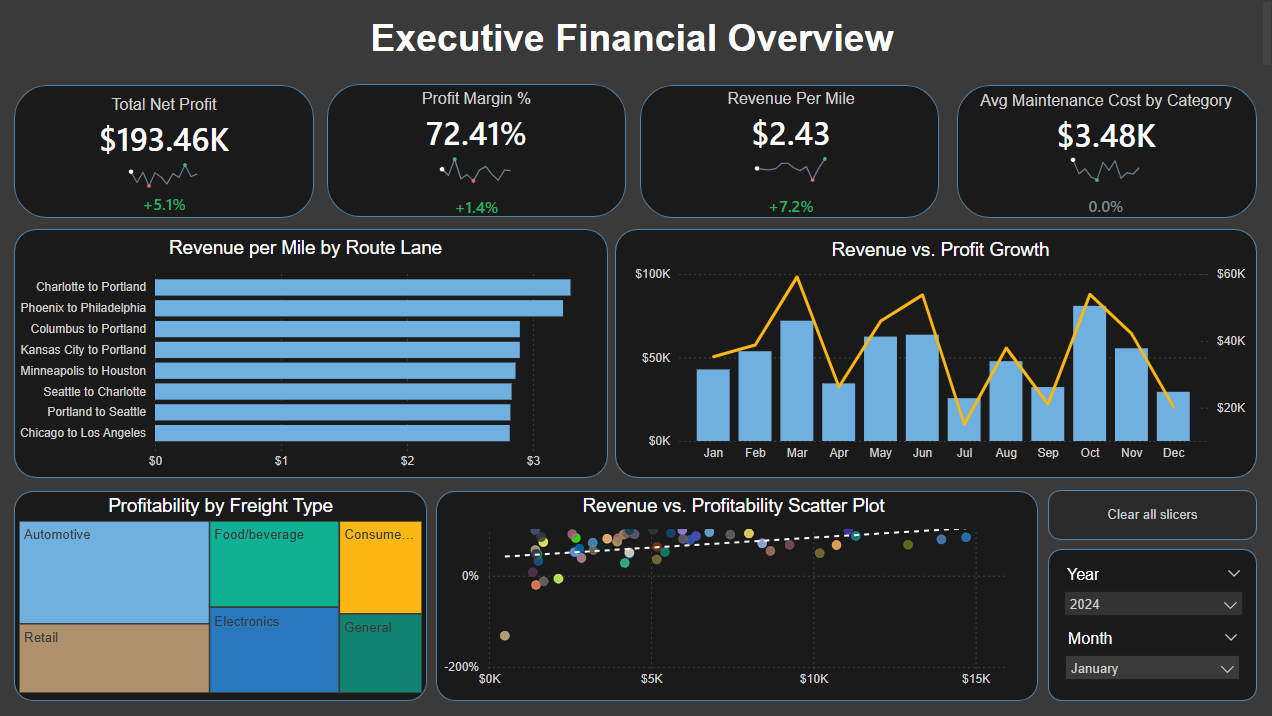

Layout of this report page (visuals, bound fields, positions):
{"tool":"powerbi","page":{"name":"📊 Executive Financial Overview","canvas":[1280,720],"ordinal":1},"visuals":[{"type":"shape","box":[618.6,235.2,641.9,249],"z":0},{"type":"shape","box":[17.5,235.2,594.3,249],"z":1000},{"type":"shape","box":[440,489.3,601.6,215],"z":2000},{"type":"shape","box":[18,489.3,413,215],"z":3000},{"type":"shape","box":[1052.7,549.4,207.9,154.4],"z":4000},{"type":"textbox","box":[0,0,1280,77.8],"z":5000},{"type":"actionButton","box":[1051.3,489.3,208.3,50.3],"z":6000},{"type":"donutChart","title":"Revenue by Customer Type","fields":{"Category":["v_DimCustomers.Customer Type"],"Y":["_Measures.Total Revenue"]},"box":[18,497.4,413.9,203.8],"z":7000},{"type":"lineClusteredColumnComboChart","title":"Financial Health: Monthly Revenue vs. Profit Margin Trends","fields":{"Category":["v_DimDate.Month Short"],"Y":["_Measures.Total Revenue"],"Y2":["_Measures.Profit Margin %"]},"box":[439.9,497.4,601.5,203.8],"z":8000},{"type":"clusteredBarChart","title":"Top High-Yield Route Lanes by Net Profit","fields":{"Category":["v_DimRoutes.Route Lane"],"Y":["_Measures.Net Profit"]},"box":[18,244.2,594.3,239.7],"z":9000},{"type":"slicer","fields":{"Values":["v_DimDate.Month Name"]},"box":[1057.5,618.4,199.2,63],"z":10000},{"type":"shape","box":[17.5,86.6,300,142],"z":11000},{"type":"cardVisual","fields":{"Data":["_Measures.Total Net Profit"]},"box":[19.8,86.2,298.1,154.4],"z":12000},{"type":"shape","box":[332.3,86.6,299.6,142],"z":13000},{"type":"cardVisual","fields":{"Data":["_Measures.Revenue Per Mile"]},"box":[643.9,77.8,300.5,143],"z":14000},{"type":"shape","box":[646.6,86.6,299.6,142],"z":15000},{"type":"cardVisual","fields":{"Data":["_Measures.Profit Margin %"]},"box":[333.1,86.2,299,154.4],"z":16000},{"type":"shape","box":[961,86.6,299.6,142],"z":17000},{"type":"cardVisual","fields":{"Data":["_Measures.Route Profitability Index"]},"box":[960.6,86.2,299,154.4],"z":18000},{"type":"cardVisual","fields":{"Data":["_Measures.Total Revenue"]},"box":[648.2,86.2,298.1,154.4],"z":19000},{"type":"slicer","fields":{"Values":["v_DimDate.Year"]},"box":[1057.5,555.5,199.2,63],"z":20000},{"type":"clusteredBarChart","title":"Route Profitability Index: Bottom Performing Lanes","fields":{"Category":["v_DimRoutes.Route Lane"],"Y":["_Measures.Route Profitability Index"]},"box":[621.2,240.6,638.3,246],"z":21000}]}

Visuals, with their boxes in screenshot pixels (x1, y1, x2, y2), scaled from the page's 1280x720 canvas onto the 1272x716 screenshot:
shape: (left=615, top=234, right=1253, bottom=482)
shape: (left=17, top=234, right=608, bottom=482)
shape: (left=437, top=487, right=1035, bottom=700)
shape: (left=18, top=487, right=428, bottom=700)
shape: (left=1046, top=546, right=1253, bottom=700)
textbox: (left=0, top=0, right=1271, bottom=77)
actionButton: (left=1045, top=487, right=1252, bottom=537)
"Revenue by Customer Type" donutChart: (left=18, top=495, right=429, bottom=697)
"Financial Health: Monthly Revenue vs. Profit Margin Trends" lineClusteredColumnComboChart: (left=437, top=495, right=1035, bottom=697)
"Top High-Yield Route Lanes by Net Profit" clusteredBarChart: (left=18, top=243, right=608, bottom=481)
slicer - v_DimDate.Month Name: (left=1051, top=615, right=1249, bottom=678)
shape: (left=17, top=86, right=316, bottom=227)
cardVisual - _Measures.Total Net Profit: (left=20, top=86, right=316, bottom=239)
shape: (left=330, top=86, right=628, bottom=227)
cardVisual - _Measures.Revenue Per Mile: (left=640, top=77, right=938, bottom=220)
shape: (left=643, top=86, right=940, bottom=227)
cardVisual - _Measures.Profit Margin %: (left=331, top=86, right=628, bottom=239)
shape: (left=955, top=86, right=1253, bottom=227)
cardVisual - _Measures.Route Profitability Index: (left=955, top=86, right=1252, bottom=239)
cardVisual - _Measures.Total Revenue: (left=644, top=86, right=940, bottom=239)
slicer - v_DimDate.Year: (left=1051, top=552, right=1249, bottom=615)
"Route Profitability Index: Bottom Performing Lanes" clusteredBarChart: (left=617, top=239, right=1252, bottom=484)
